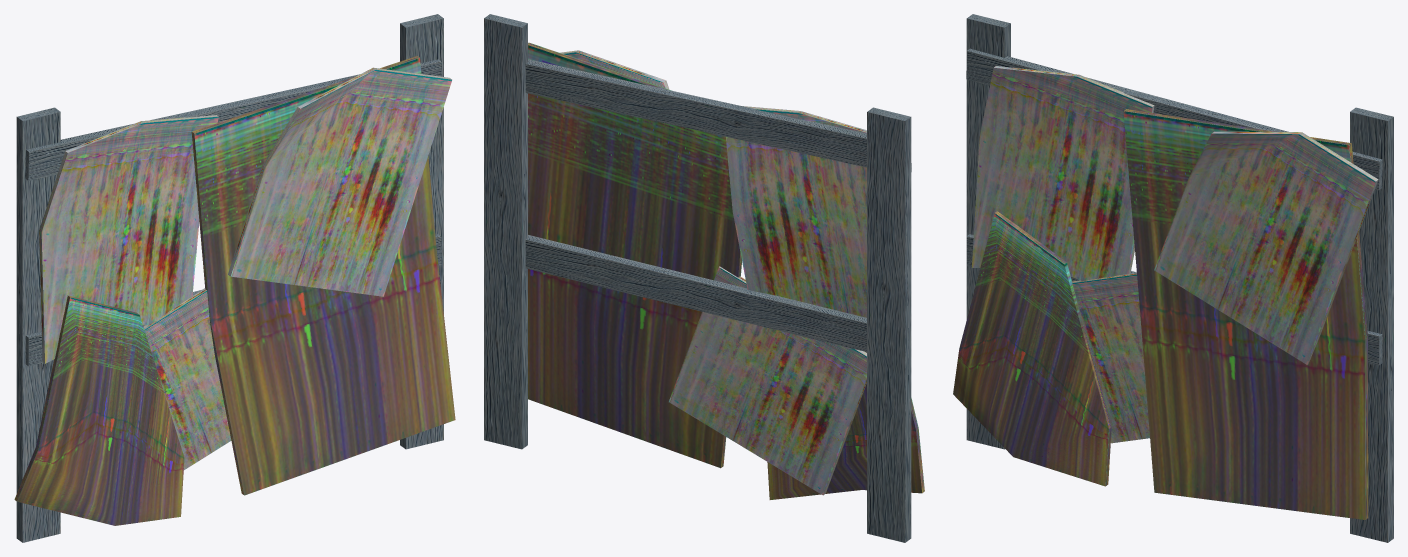
The model's file is Wall3.FBX.
The picture shows the model from 3 angles, left to right: view 1: azimuth 30°, elevation 25°; view 2: azimuth 150°, elevation 25°; view 3: azimuth 330°, elevation 25°; orthographic projection.
Visible parts, largest first — view 1: Plate (×5), Board (×4); view 2: Plate (×5), Board (×4); view 3: Plate (×5), Board (×4).
Part boxes in pixels (x1,y1,x2,y2): Plate (×5): [14, 56, 455, 525]; Board (×4): [16, 14, 443, 542]; Plate (×5): [528, 42, 924, 499]; Board (×4): [484, 14, 911, 542]; Plate (×5): [953, 66, 1378, 519]; Board (×4): [966, 14, 1393, 542].
Bounding box in the file's own units: 1.94 × 1.83 × 0.2261.
3 materials, 3 textured.
